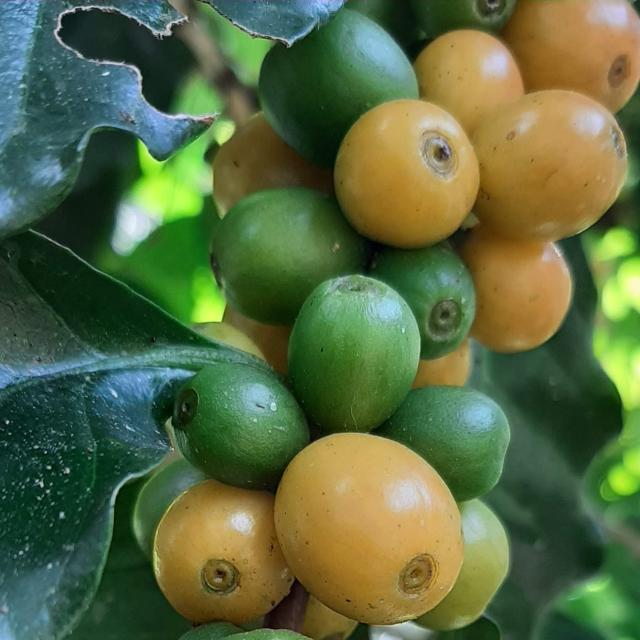green: (258, 8, 419, 168), (211, 188, 367, 326), (288, 275, 421, 433), (171, 364, 310, 492), (375, 386, 511, 502), (213, 111, 334, 217), (370, 241, 476, 360), (419, 500, 510, 632), (345, 0, 426, 59), (412, 0, 517, 37)
red: (275, 434, 464, 626), (473, 89, 629, 241), (334, 99, 480, 248), (153, 481, 294, 626), (502, 0, 640, 113), (461, 225, 573, 353), (415, 29, 525, 135), (412, 340, 472, 390)
